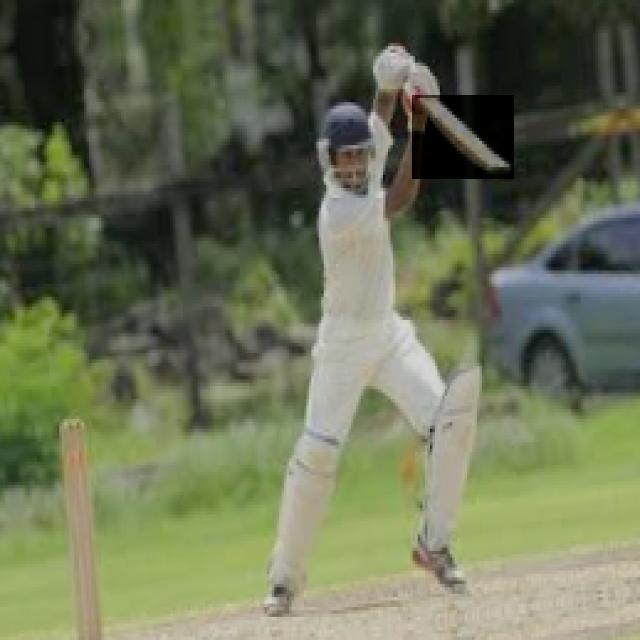bat: (415, 96, 513, 180)
toe: (480, 161, 511, 174)
